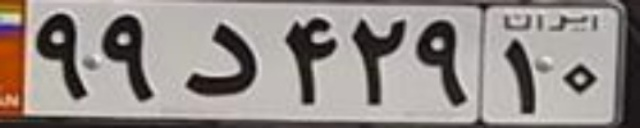0: (556, 62, 599, 96)
1: (499, 37, 536, 113)
2: (349, 18, 406, 106)
4: (281, 16, 337, 106)
9: (101, 13, 158, 102), (34, 12, 86, 101), (416, 18, 466, 106)
dal: (180, 21, 259, 97)
